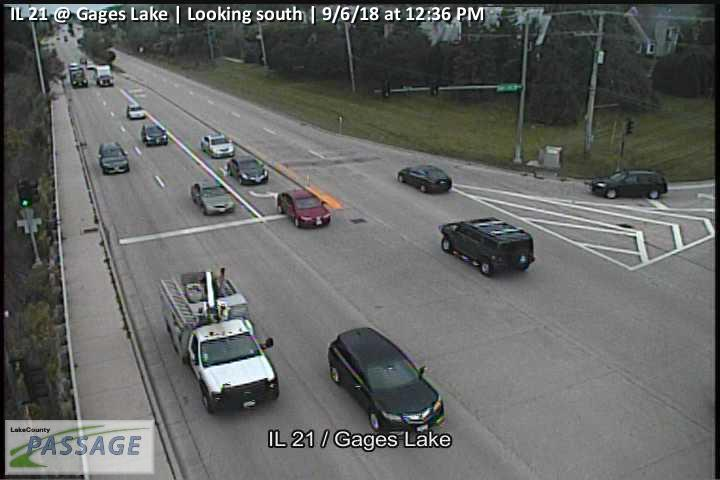SUV: (327, 326, 446, 437), (440, 216, 535, 274), (590, 169, 668, 199), (98, 142, 130, 174), (141, 123, 168, 146)
Sedan: (276, 188, 332, 228), (190, 180, 235, 216), (398, 164, 452, 193), (227, 155, 269, 185), (201, 133, 234, 159), (127, 103, 146, 119)
Truck: (158, 268, 280, 415), (94, 65, 114, 87), (69, 67, 88, 88)
